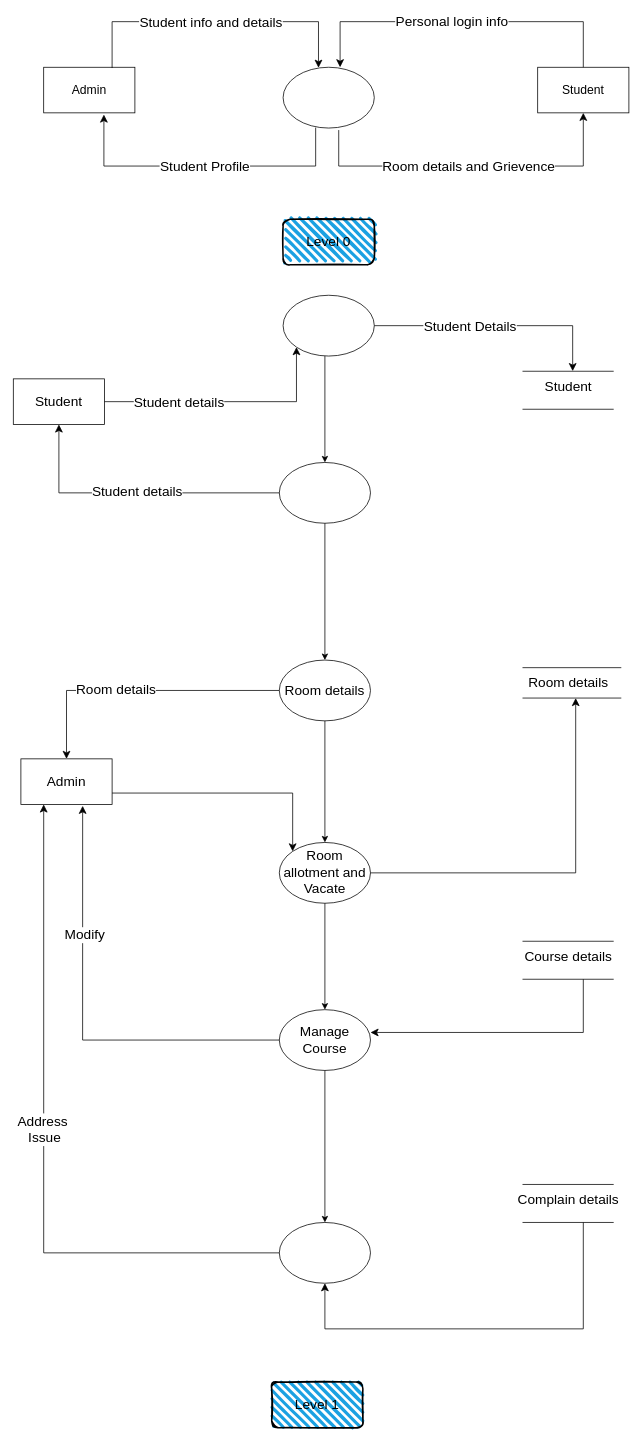
Image size: 642x1442. Some labels were removed from this diagram. Each missing label, with the centre of its shape:
"Hostel Management System" belongs at point 328,97.
"Login" belongs at point 324,492.
"Registration" belongs at point 328,325.
"View Complaints" belongs at point 324,1252.
